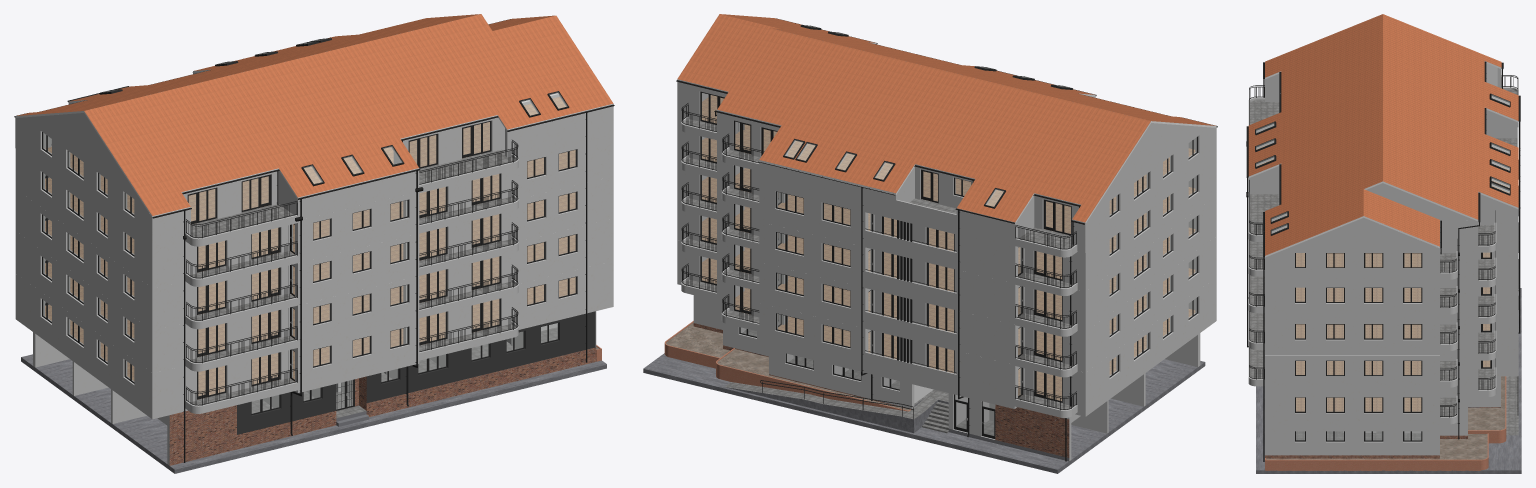
Rendered from Zgrada podeljena na spratove-Smanjeno2.glb.
The picture shows the model from 3 angles, left to right: view 1: azimuth 30°, elevation 25°; view 2: azimuth 150°, elevation 25°; view 3: azimuth 270°, elevation 25°; orthographic projection. The views are drawn at different scales.
Visible parts, largest first — view 1: Krov, Priyemlje, 1. sprat, 5. sprat, 2. sprat, 3. sprat, 4. sprat, Oluci; view 2: Krov, Priyemlje, 1. sprat, 5. sprat, 2. sprat, 3. sprat, 4. sprat, Oluci; view 3: Krov, 5. sprat, Priyemlje, 1. sprat, 3. sprat, 2. sprat, 4. sprat, Oluci.
Boxes of the visible parts, x1,y1,x2,y2 form: Krov: (15,14,613,217); Priyemlje: (21,311,606,473); 1. sprat: (15,261,613,419); 5. sprat: (15,72,613,247); 2. sprat: (15,218,613,373); 3. sprat: (15,176,613,330); 4. sprat: (15,134,613,288); Oluci: (14,19,614,462); Krov: (677,14,1216,223); Priyemlje: (643,295,1205,473); 1. sprat: (677,240,1216,417); 5. sprat: (677,82,1216,257); 2. sprat: (677,199,1216,377); 3. sprat: (677,159,1216,336); 4. sprat: (677,118,1216,295); Oluci: (676,18,1217,461); Krov: (1248,14,1518,257); 5. sprat: (1248,63,1518,282); Priyemlje: (1256,288,1521,473); 1. sprat: (1248,273,1518,431); 3. sprat: (1248,200,1518,354); 2. sprat: (1248,237,1518,391); 4. sprat: (1248,160,1518,318); Oluci: (1246,61,1520,461).
Bounding box in the file's own units: 33.6 × 21.82 × 20.1.
20 materials, 9 textured.
